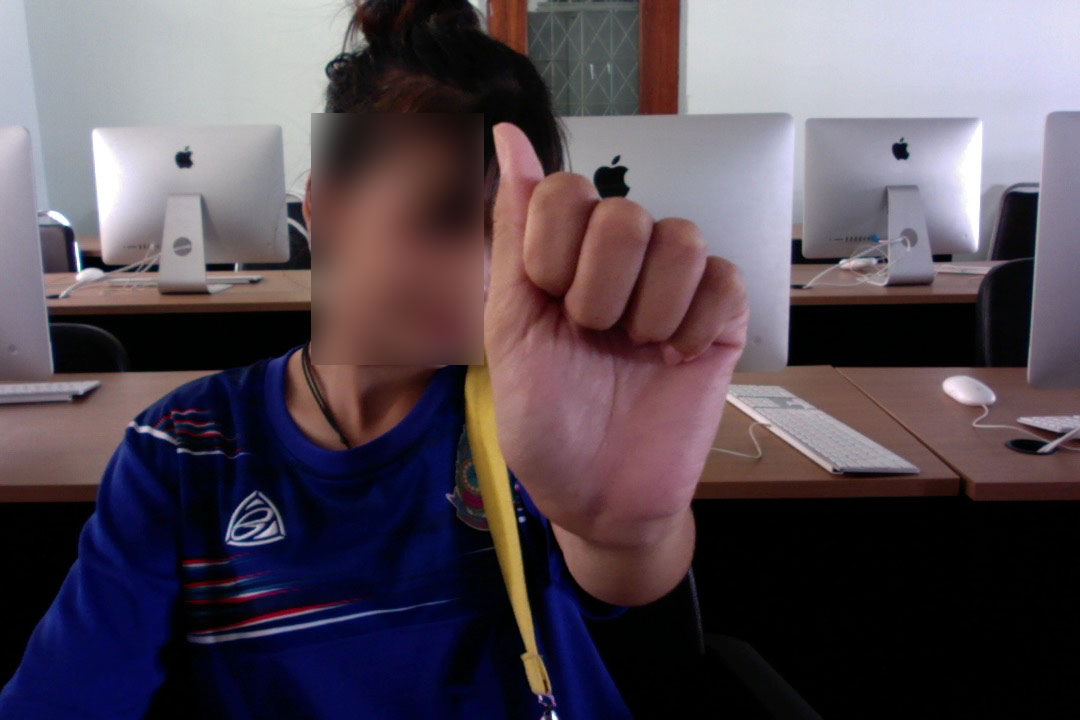or: (471, 104, 756, 530)
